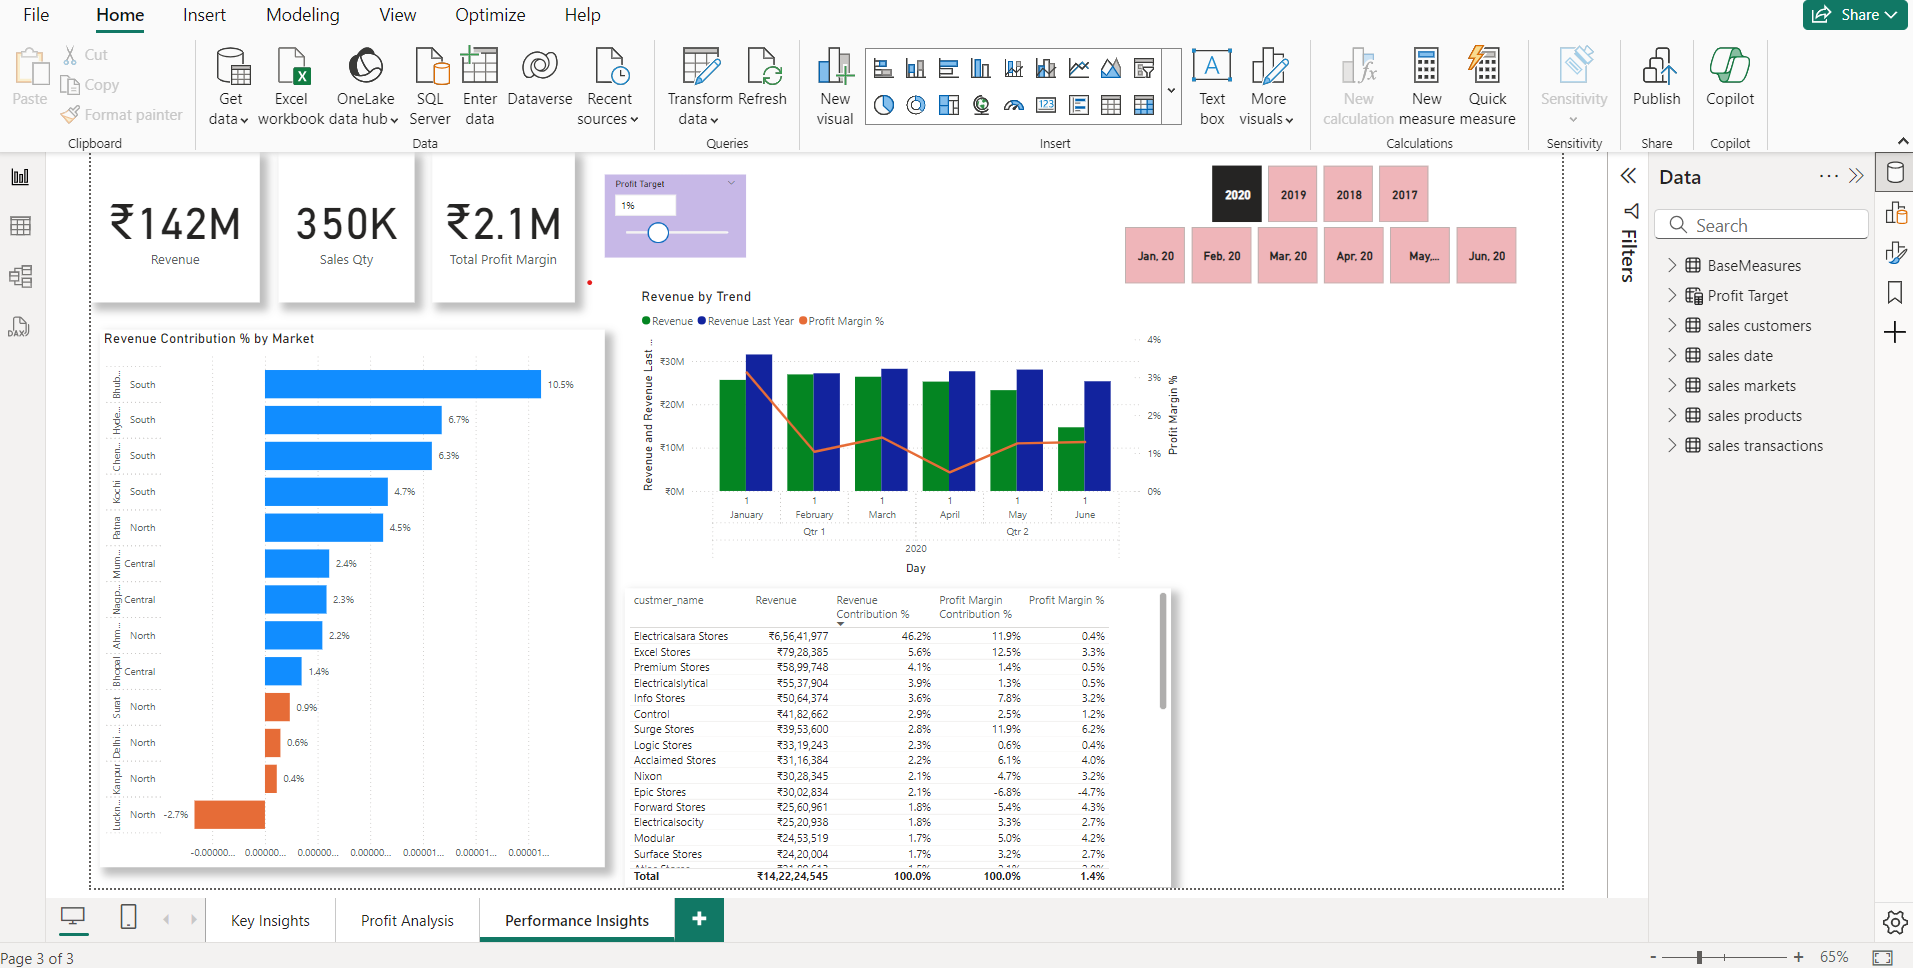

Layout of this report page (visuals, bound fields, positions):
{"tool":"powerbi","page":{"name":"Performance Insights","canvas":[1800,900],"ordinal":2},"visuals":[{"type":"card","fields":{"Values":["BaseMeasures.Revenue"]},"box":[0,0,206.2,184],"z":0},{"type":"card","fields":{"Values":["BaseMeasures.Sales Qty"]},"box":[230,0,166.5,184],"z":1000},{"type":"advancedSlicerVisual","title":"Year","fields":{"Values":["sales date.year"]},"box":[1366.5,16.8,275.1,74.9],"z":2000},{"type":"advancedSlicerVisual","title":"Year","fields":{"Values":["sales date.cy_date"]},"box":[1239.6,91.7,528.9,74.9],"z":3000},{"type":"tableEx","title":"Top 5 Products","fields":{"Values":["sales customers.custmer_name","BaseMeasures.Revenue","BaseMeasures.Revenue Contribution %","BaseMeasures.Profit Margin Contribution %","BaseMeasures.Profit Margin %"]},"box":[652.7,533.5,668,365.3],"z":4000},{"type":"lineClusteredColumnComboChart","title":"Revenue by Trend","fields":{"Category":["sales date.cy_date.Variation.Date Hierarchy.Year","sales date.cy_date.Variation.Date Hierarchy.Quarter","sales date.cy_date.Variation.Date Hierarchy.Month","sales date.cy_date.Variation.Date Hierarchy.Day"],"Y":["BaseMeasures.Revenue","BaseMeasures.Revenue Last Year"],"Y2":["BaseMeasures.Profit Margin %"]},"box":[668,166.6,668,354.6],"z":5000},{"type":"card","fields":{"Values":["BaseMeasures.Total Profit Margin"]},"box":[417.1,0,174.5,184],"z":6000},{"type":"barChart","title":"Revenue Contribution % by Market","fields":{"Y":["BaseMeasures.Profit Margin %"],"Category":["sales markets.markets_name","sales markets.zone"]},"box":[11.3,217.7,617.6,657.9],"z":7000},{"type":"slicer","fields":{"Values":["Profit Target.Profit Target"]},"box":[628.9,27.4,172.5,101.6],"z":8000}]}

Visuals, with their boxes on the page's 1800x900 design canvas (x1, y1, x2, y2). These are canvas units, not pixel positions in the 1913x968 screenshot, which may show the page scaled, cropped or inside an application window:
card - BaseMeasures.Revenue: 0/0/206/184
card - BaseMeasures.Sales Qty: 230/0/396/184
"Year" advancedSlicerVisual: 1366/17/1642/92
"Year" advancedSlicerVisual: 1240/92/1768/167
"Top 5 Products" tableEx: 653/534/1321/899
"Revenue by Trend" lineClusteredColumnComboChart: 668/167/1336/521
card - BaseMeasures.Total Profit Margin: 417/0/592/184
"Revenue Contribution % by Market" barChart: 11/218/629/876
slicer - Profit Target.Profit Target: 629/27/801/129
